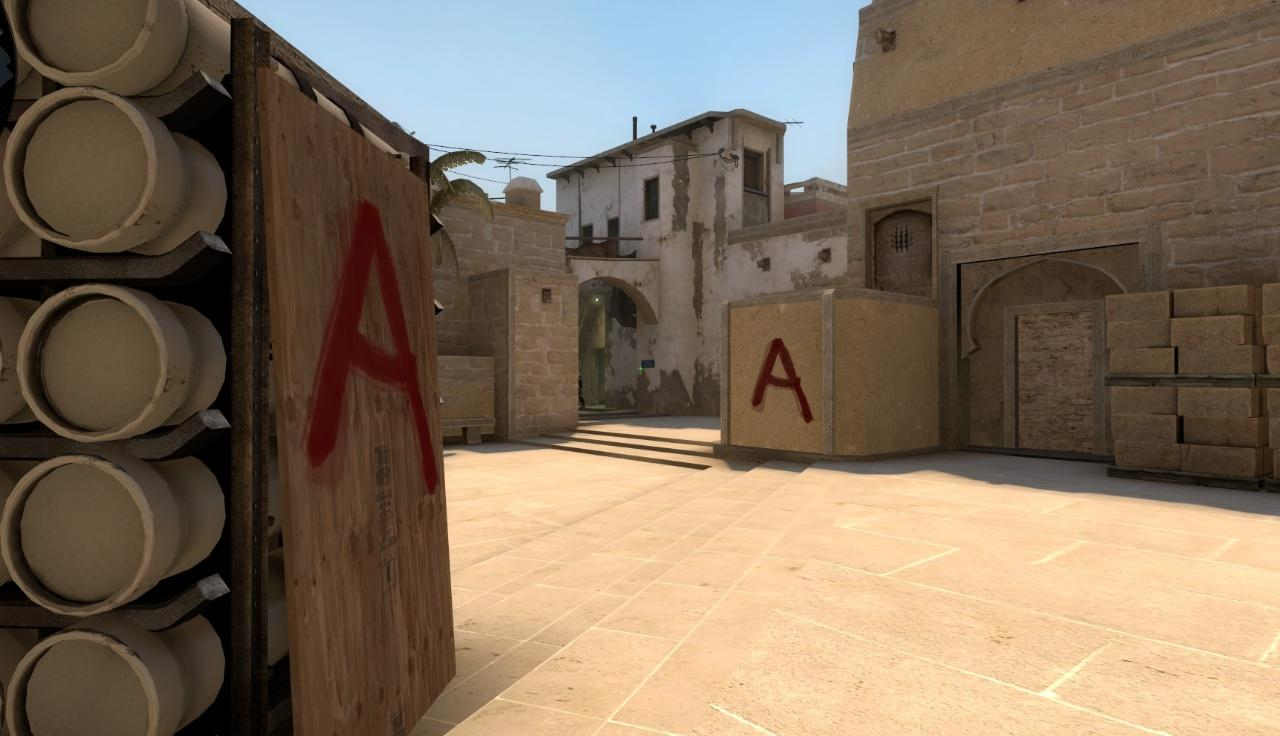ct: (578, 371, 585, 409)
